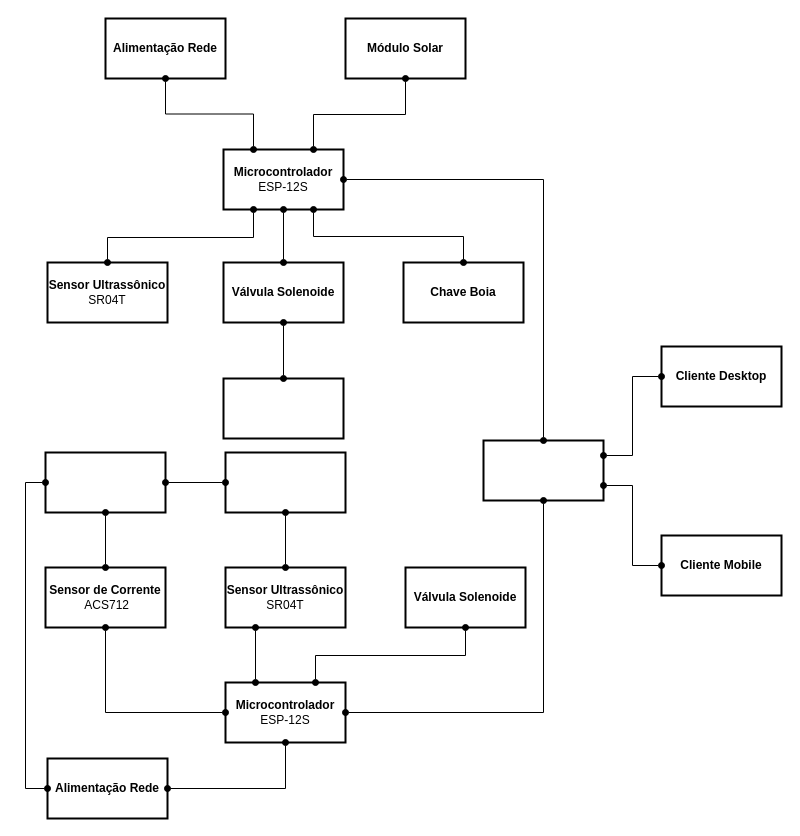
Some shapes in this 800 by 836 pixel diagram are drawn without their labels. The centre of each missing label's shape, as x and y in pixels:
"Bomba DC" belongs at (x=105, y=482).
"Caixa D'água" belongs at (x=283, y=408).
"Cisterna" belongs at (x=285, y=482).
"Serviço Broker Raspberry Pi Zero W" belongs at (x=543, y=470).
